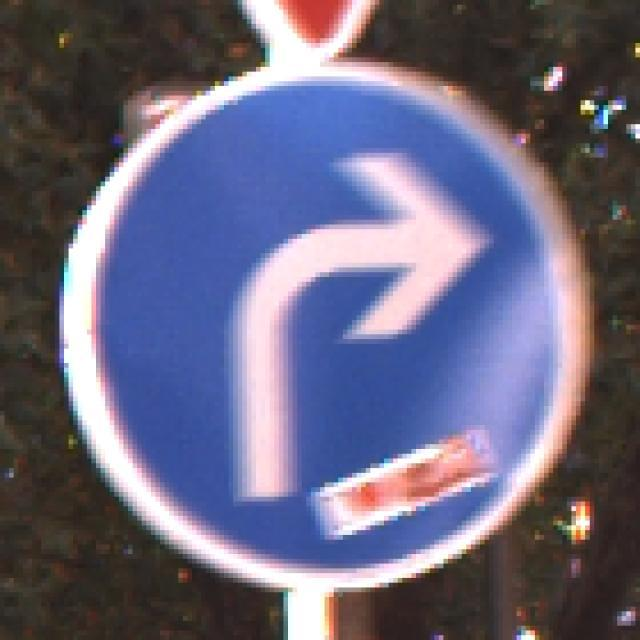compulsary turn right ahead: (61, 62, 593, 596)
